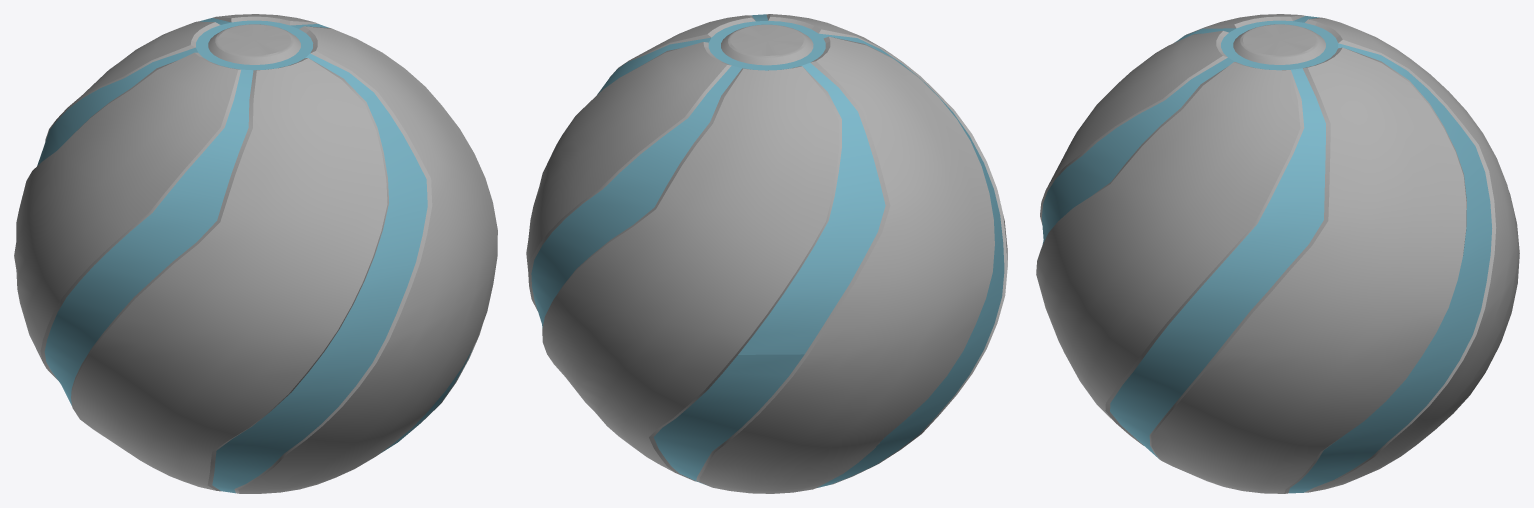
File: Bullet_Ball.fbx
3 renders of one model, left to right at view 1: azimuth 30°, elevation 25°; view 2: azimuth 150°, elevation 25°; view 3: azimuth 270°, elevation 25°, orthographic.
Visible parts, largest first — view 1: Bullet_Ball; view 2: Bullet_Ball; view 3: Bullet_Ball.
Boxes of the visible parts, left/top/right/bottom form: Bullet_Ball: left=14, top=14, right=497, bottom=493; Bullet_Ball: left=526, top=14, right=1007, bottom=493; Bullet_Ball: left=1036, top=14, right=1519, bottom=493.
Bounding box in the file's own units: 21.64 × 21.15 × 21.68.
